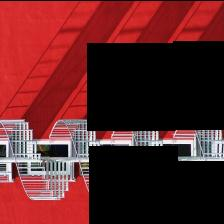red: (0, 0, 224, 117)
